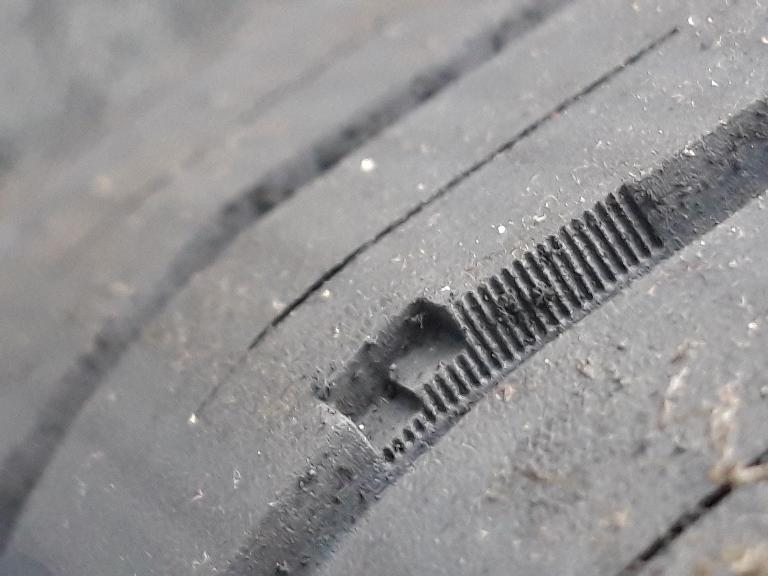temoin:50: (304, 245, 551, 478)
